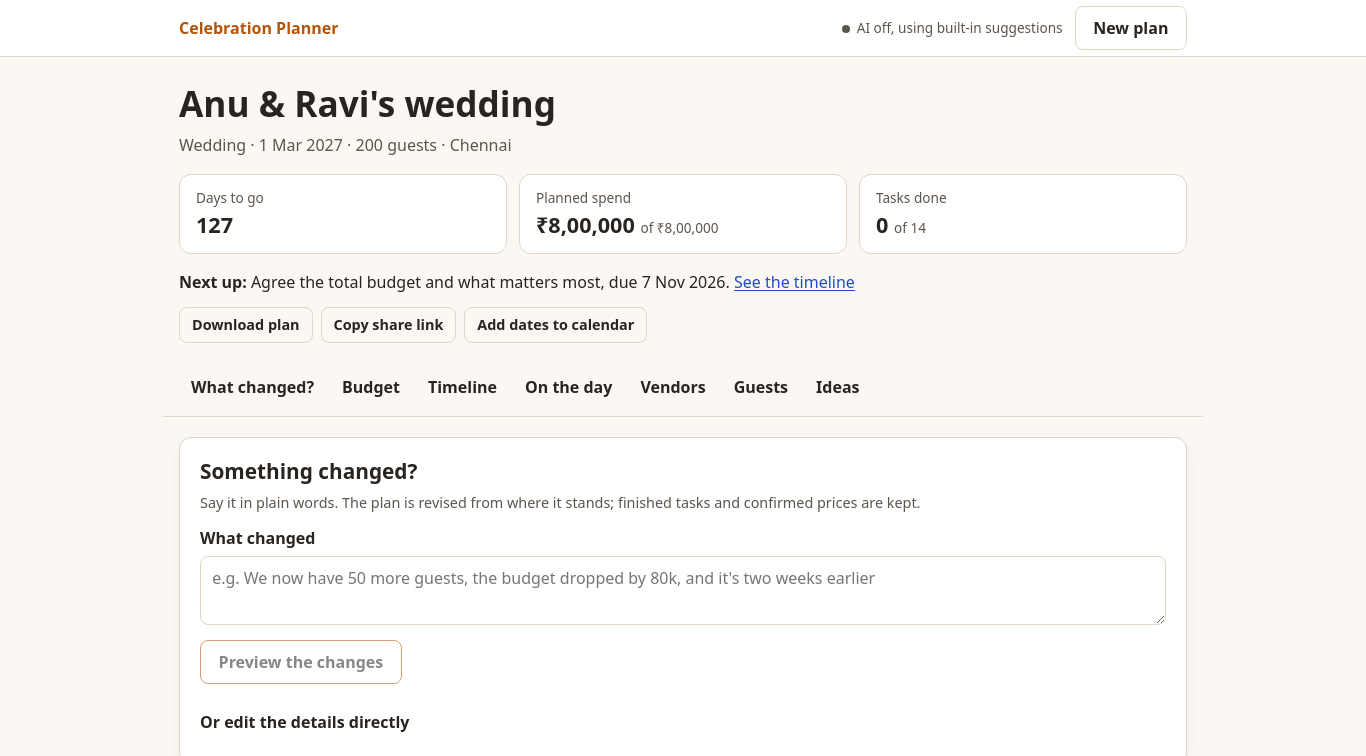
Test: PlannerApp › only starts over once the user confirms
Click the button "New plan" at {"x": 1131, "y": 28}, box x1=1075 y1=6 x2=1187 y2=50
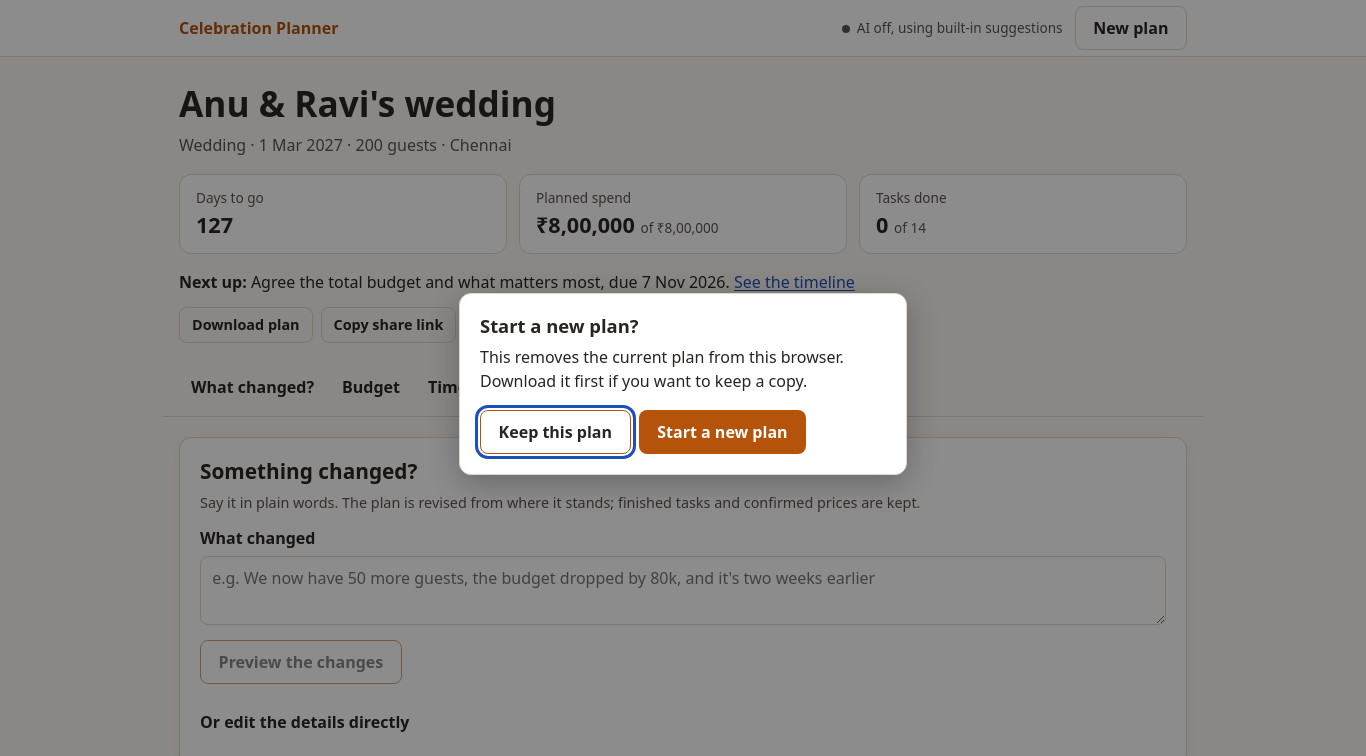
Click the button "Keep this plan" at {"x": 555, "y": 432}, box x1=480 y1=410 x2=631 y2=454
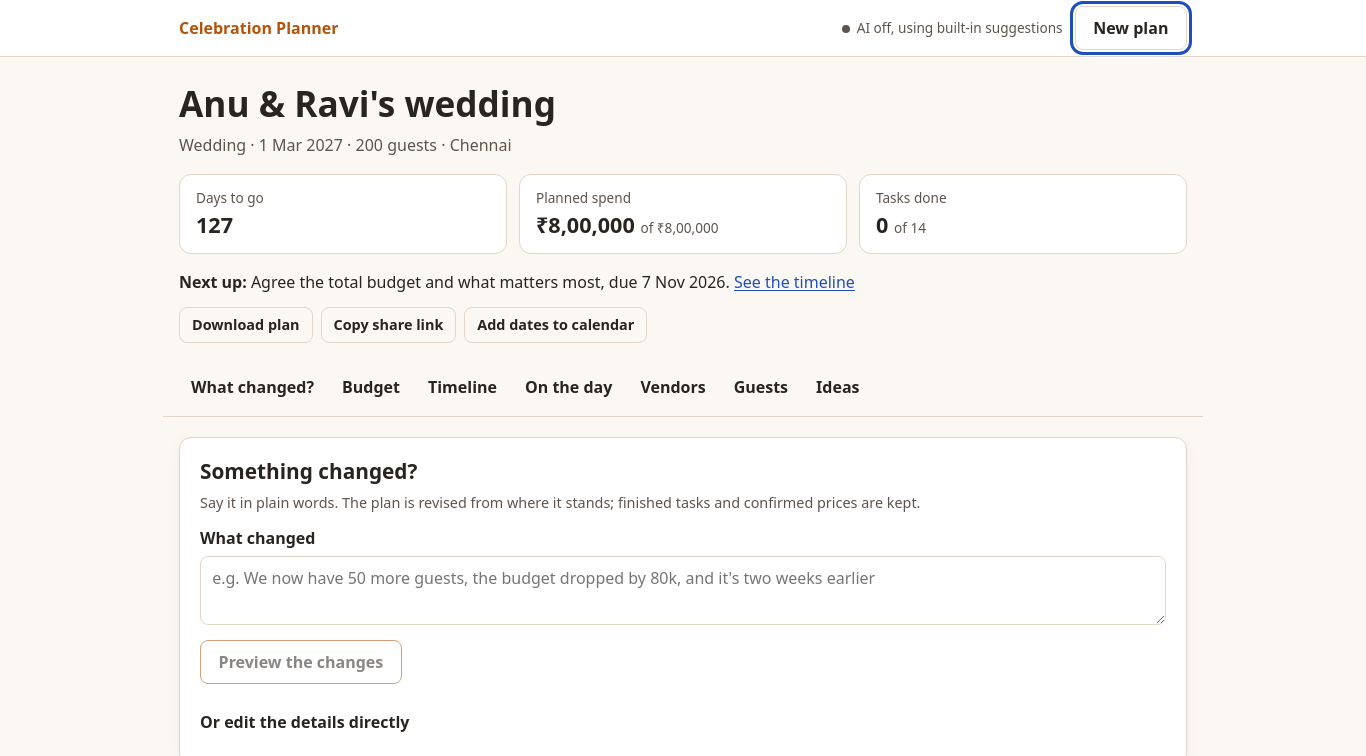
Check: the heading "Anu & Ravi's wedding" is shown, box x1=179 y1=79 x2=556 y2=127
Click the button "New plan" at {"x": 1131, "y": 28}, box x1=1075 y1=6 x2=1187 y2=50
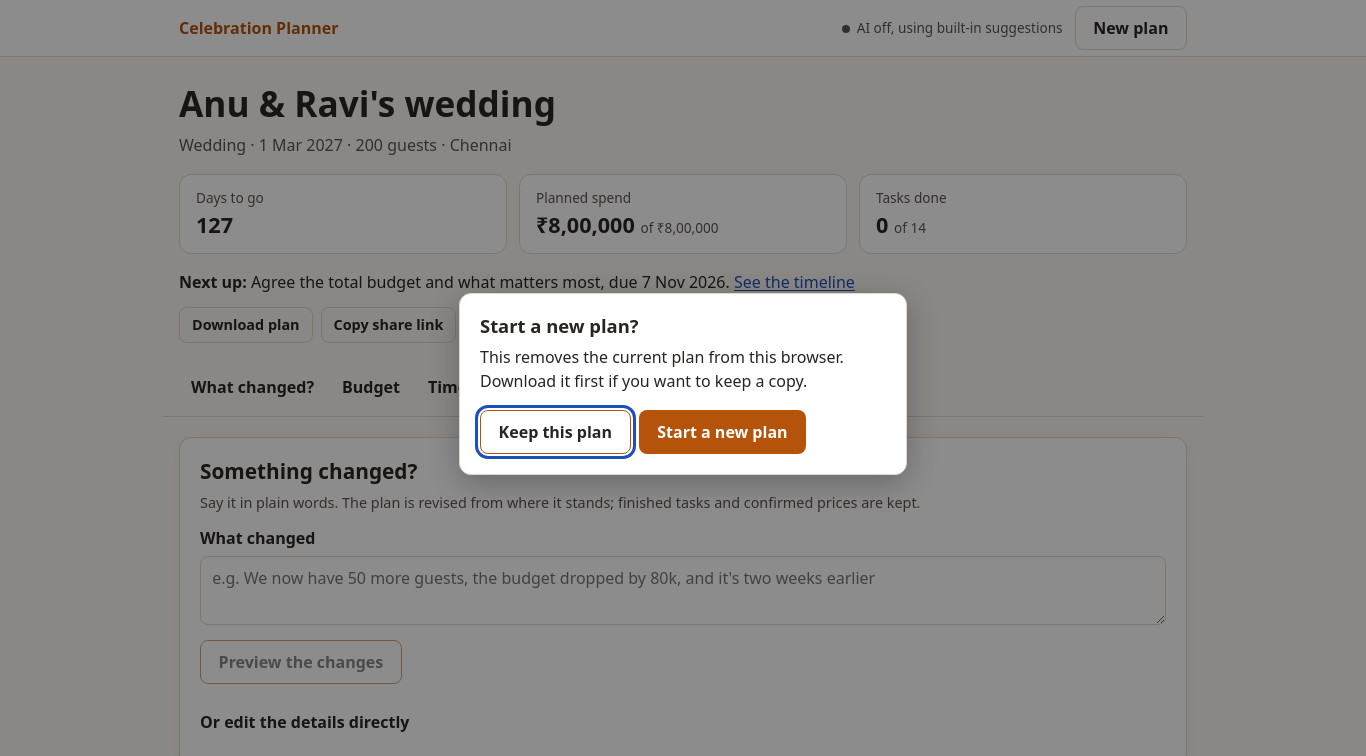
Click the button "Start a new plan" at {"x": 722, "y": 432}, box x1=639 y1=410 x2=806 y2=454
(page scrolled)
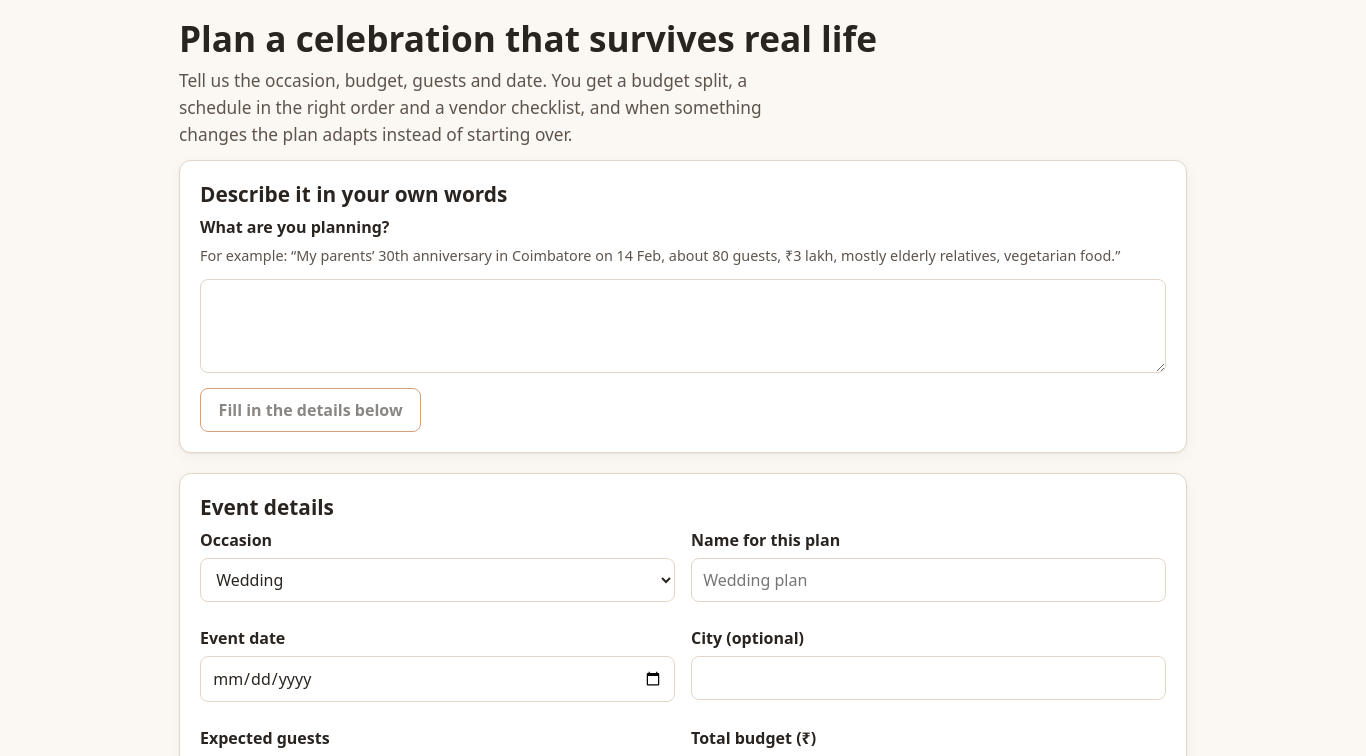
Check: the heading "Plan a celebration that survives real life" is shown, box x1=179 y1=14 x2=877 y2=62
